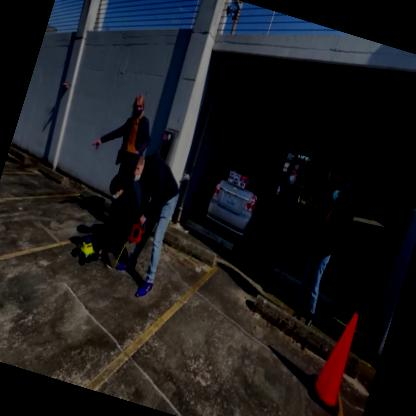cone: (299, 301, 372, 415)
mushr_car: (66, 226, 104, 272)
